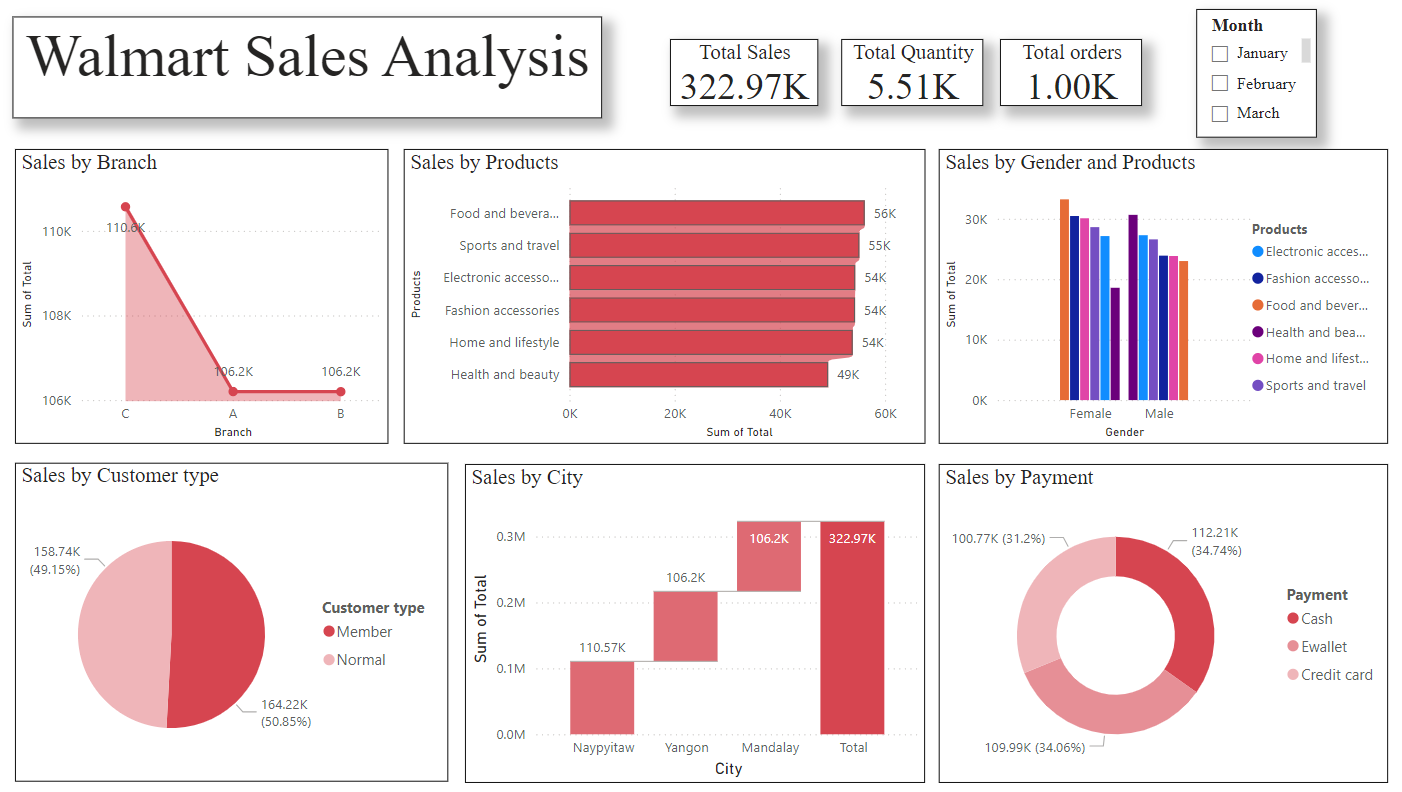

What the dashboard file says about the page in this screenshot:
{"tool":"powerbi","page":{"name":"Sales Report","canvas":[1280,720],"ordinal":0},"visuals":[{"type":"lineChart","title":"Sales by Month","fields":{"Category":["WalmartSalesData.Date.Variation.Date Hierarchy.Month"],"Y":["Sum(WalmartSalesData.Total)"]},"box":[27.4,134.2,334.7,264],"z":0},{"type":"barChart","title":"Sales by Products","fields":{"Y":["Sum(WalmartSalesData.Total)"],"Category":["WalmartSalesData.Product line"]},"box":[375.1,134.7,467.5,263.8],"z":1000},{"type":"pieChart","title":"Sales by Customer type","fields":{"Category":["WalmartSalesData.Customer type"],"Y":["Sum(WalmartSalesData.Total)"]},"box":[27.4,415.5,388.1,285.7],"z":2000},{"type":"slicer","fields":{"Values":["WalmartSalesData.Branch"]},"box":[1085,8.7,108.2,115.4],"z":3000},{"type":"lineStackedColumnComboChart","title":"Number of Rating by Products","fields":{"Category":["WalmartSalesData.Product line"],"Y":["Sum(WalmartSalesData.Rating)"]},"box":[430.7,416.2,437.9,284.7],"z":4000},{"type":"donutChart","title":"Sales by Payment","fields":{"Y":["Sum(WalmartSalesData.Total)"],"Category":["WalmartSalesData.Payment"]},"box":[884.4,415.5,372.2,285.7],"z":5000},{"type":"card","title":"Total Sales","fields":{"Values":["Sum(WalmartSalesData.Total)"]},"box":[586.3,51.9,133,60],"z":6000},{"type":"card","title":"Total Quantity","fields":{"Values":["Sum(WalmartSalesData.Quantity)"]},"box":[728.7,51.9,127.9,60.3],"z":7000},{"type":"card","title":"Total orders","fields":{"Values":["Count(WalmartSalesData.Invoice ID)"]},"box":[866.2,51.9,127.9,60.3],"z":8000},{"type":"textbox","box":[24.5,15.9,528,90.9],"z":9000},{"type":"clusteredColumnChart","title":"Sales by Gender and Products","fields":{"Category":["WalmartSalesData.Gender"],"Y":["Sum(WalmartSalesData.Total)"],"Series":["WalmartSalesData.Product line"]},"box":[854.1,134.2,402.5,264],"z":10000}]}

Visuals, with their boxes in screenshot pixels (x1, y1, x2, y2), scaled from the page's 1280x720 canvas onto the 1402x792 screenshot:
"Sales by Month" lineChart: (30,148,397,438)
"Sales by Products" barChart: (411,148,923,438)
"Sales by Customer type" pieChart: (30,457,455,771)
slicer - WalmartSalesData.Branch: (1188,10,1307,137)
"Number of Rating by Products" lineStackedColumnComboChart: (472,458,951,771)
"Sales by Payment" donutChart: (969,457,1376,771)
"Total Sales" card: (642,57,788,123)
"Total Quantity" card: (798,57,938,123)
"Total orders" card: (949,57,1089,123)
textbox: (27,17,605,117)
"Sales by Gender and Products" clusteredColumnChart: (936,148,1376,438)
